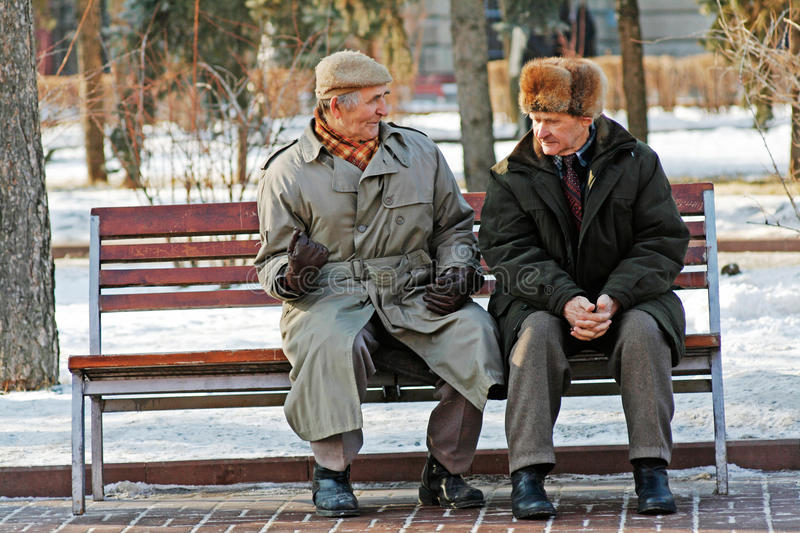Person: (238, 23, 506, 517), (478, 50, 726, 528)
